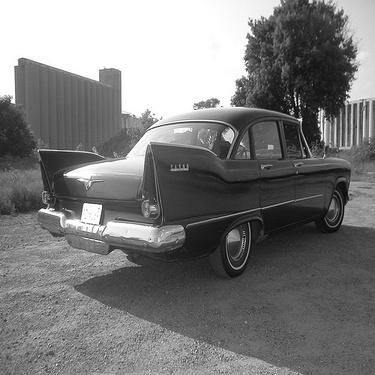car: (30, 83, 375, 266)
